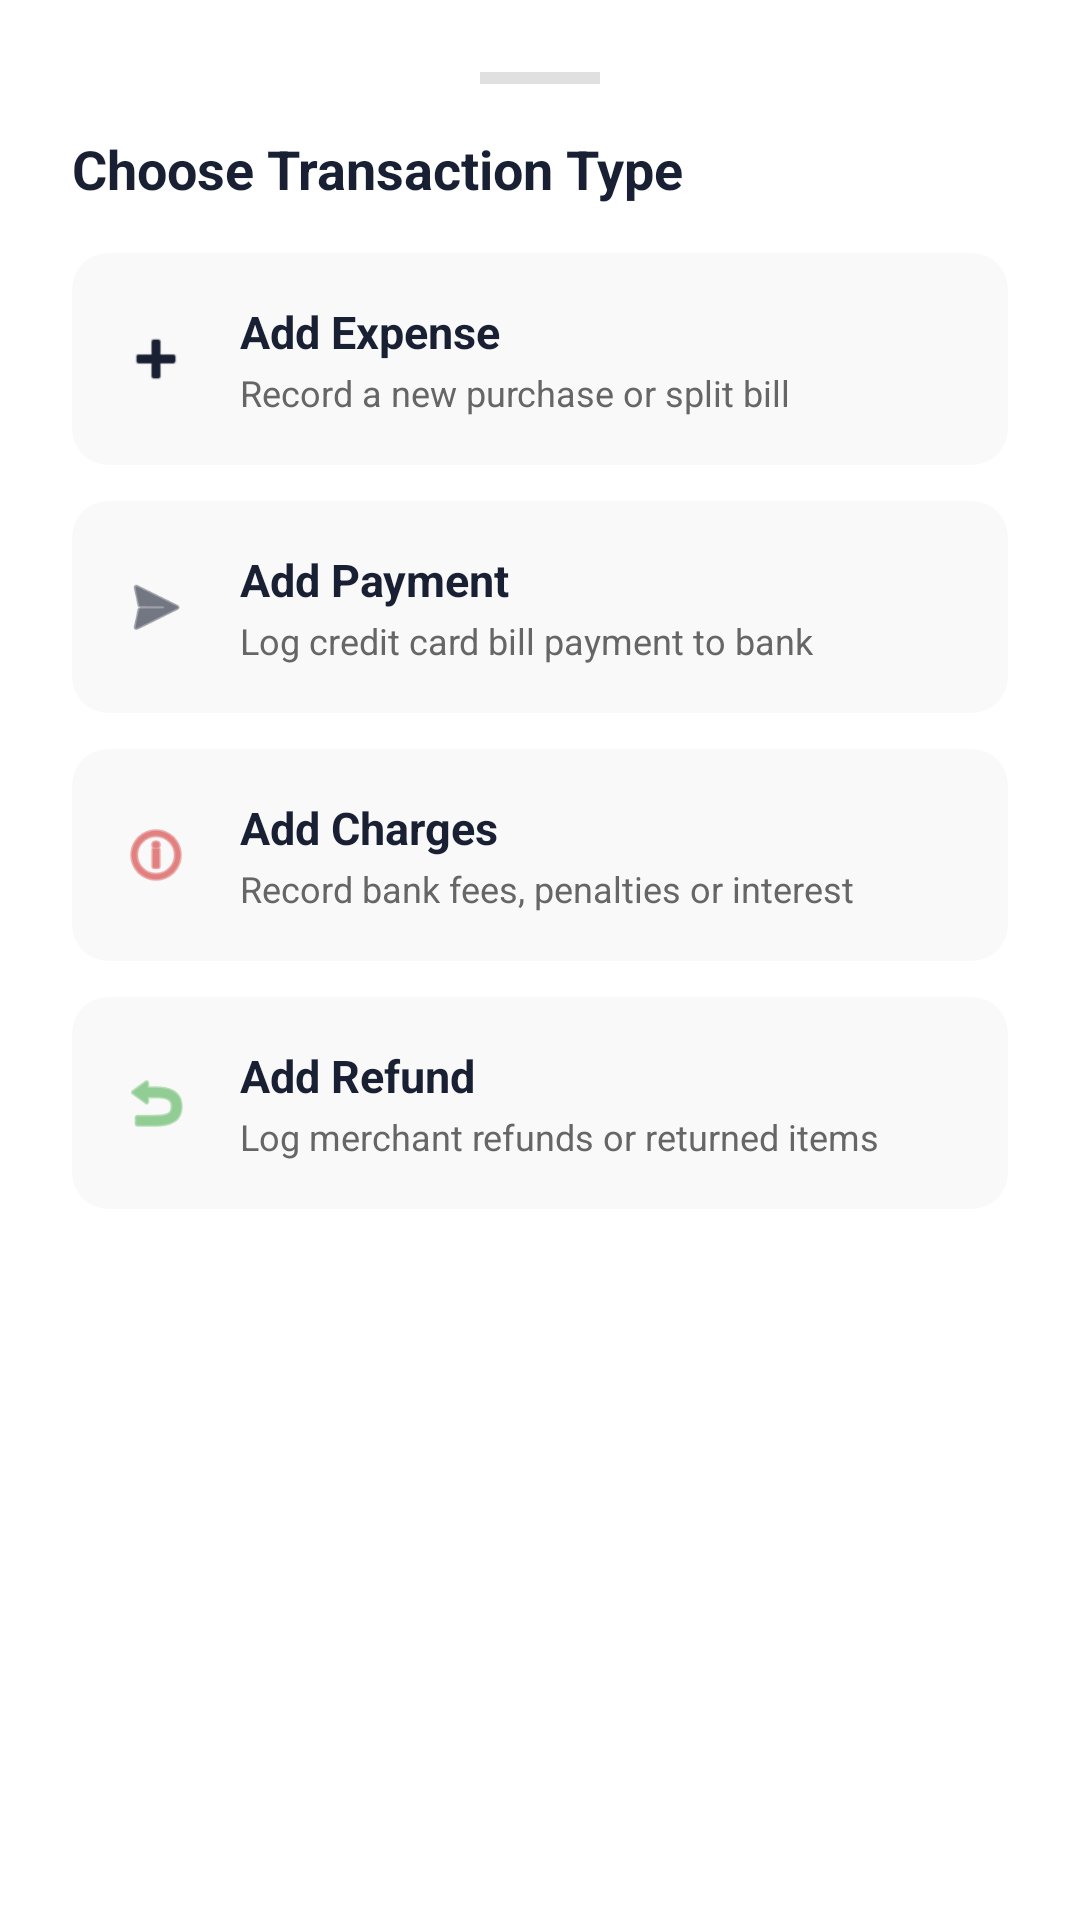

Screen size 1080w x 1920h. Icon name, then its box in pixels as [left=x1, top=y1, right=x2, bottom=y2]:
info details: [left=130, top=829, right=182, bottom=881]
revert: [left=131, top=1080, right=183, bottom=1127]
send: [left=134, top=585, right=180, bottom=630]
